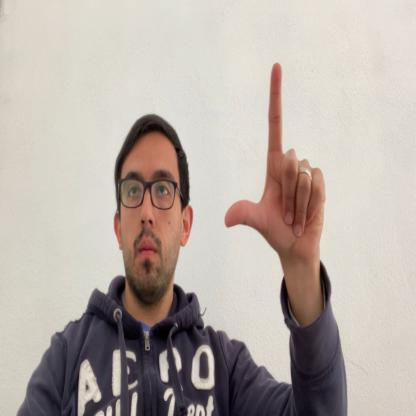L: (224, 63, 326, 264)
